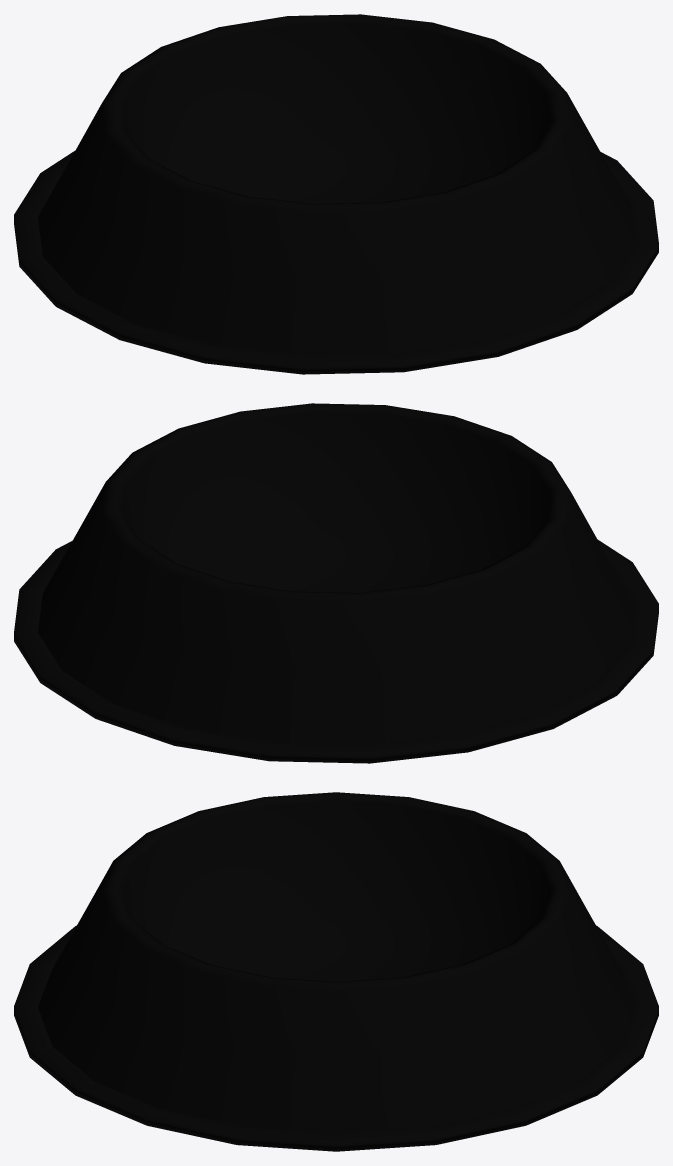
The model's file is foodBowl.fbx.
3 renders of one model, top to bottom at view 1: azimuth 30°, elevation 25°; view 2: azimuth 150°, elevation 25°; view 3: azimuth 270°, elevation 25°, orthographic.
Visible parts, largest first — view 1: top_geo, bottom_geo; view 2: top_geo, bottom_geo; view 3: top_geo, bottom_geo.
Boxes of the visible parts, x1,y1,x2,y2 form: top_geo: (38,14,634,356); bottom_geo: (14,151,658,374); top_geo: (38,403,634,745); bottom_geo: (14,540,658,763); top_geo: (38,792,634,1133); bottom_geo: (14,925,658,1151).
Bounding box in the file's own units: 956 × 209 × 956.
1 material, 1 textured.
